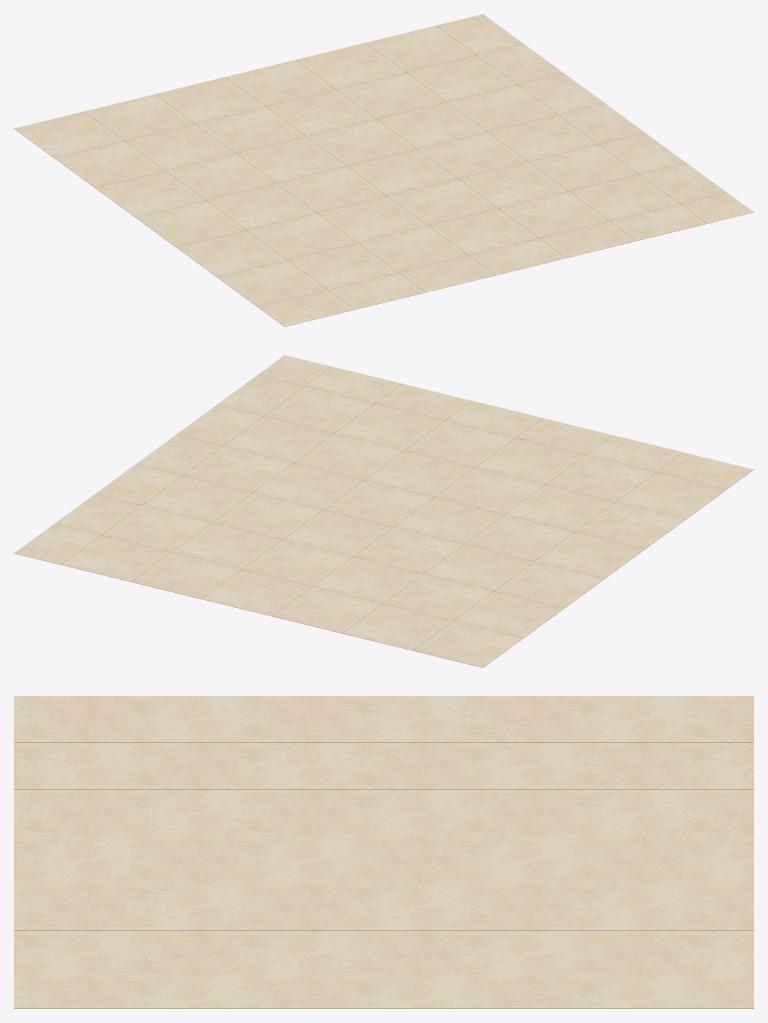
Rendered from fendi-120x120.glb.
The picture shows the model from 3 angles, top to bottom: view 1: azimuth 30°, elevation 25°; view 2: azimuth 150°, elevation 25°; view 3: azimuth 270°, elevation 25°; orthographic projection. The views are drawn at different scales.
Visible parts, largest first — view 1: Fendi; view 2: Fendi; view 3: Fendi.
Part boxes in pixels (x1,y1,x2,y2): Fendi: [14, 14, 753, 326]; Fendi: [14, 355, 753, 667]; Fendi: [14, 696, 753, 1008].
Bounding box in the file's own units: 8 × 0.003 × 8.
Materials: 2 (1 with a texture image).
